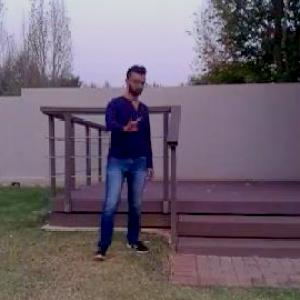takeoff-hand: (117, 104, 146, 138)
